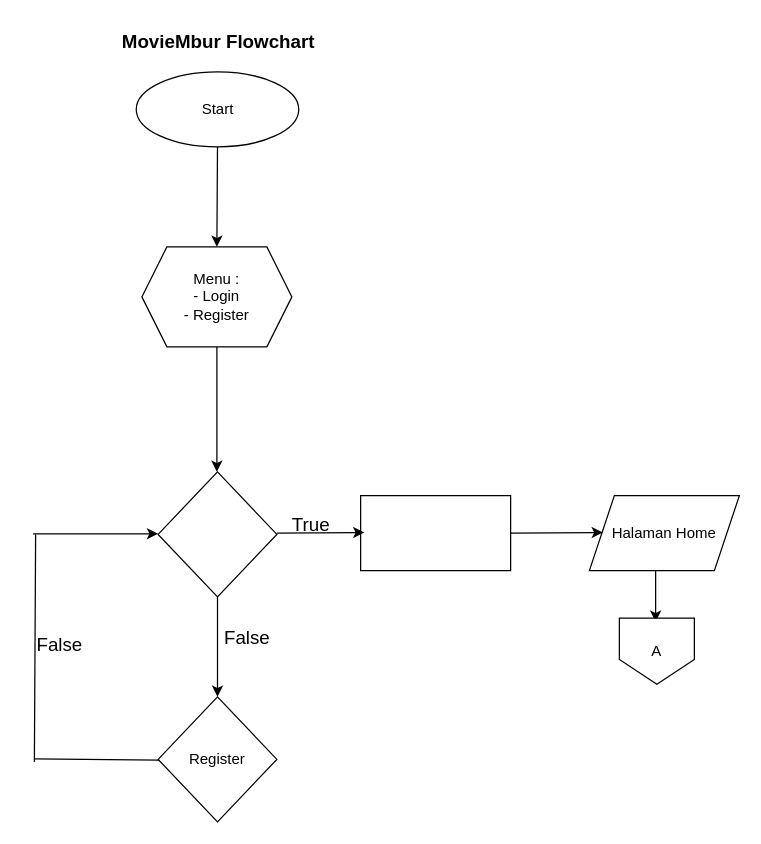
Some shapes in this 761 by 844 pixel diagram are drawn without their labels. Here are the shapes that lost their labels. From the top down, the centre of each, then its label:
point 217,534: Login
point 435,532: Proses
